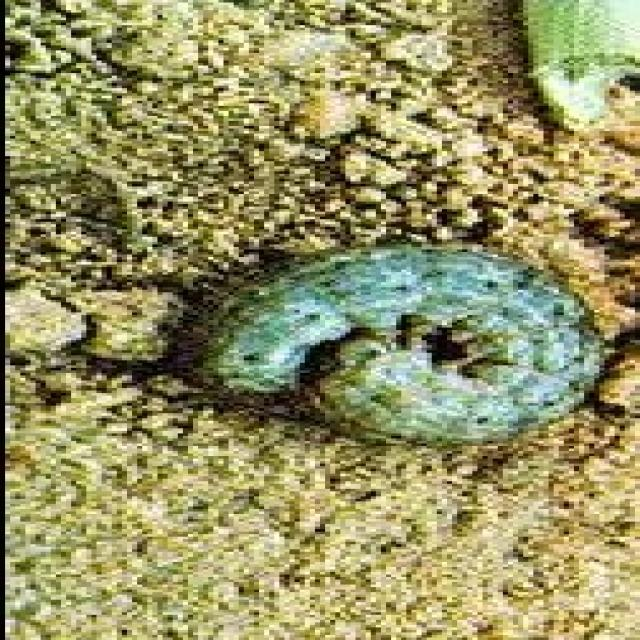black cutworm: (186, 243, 608, 449)
